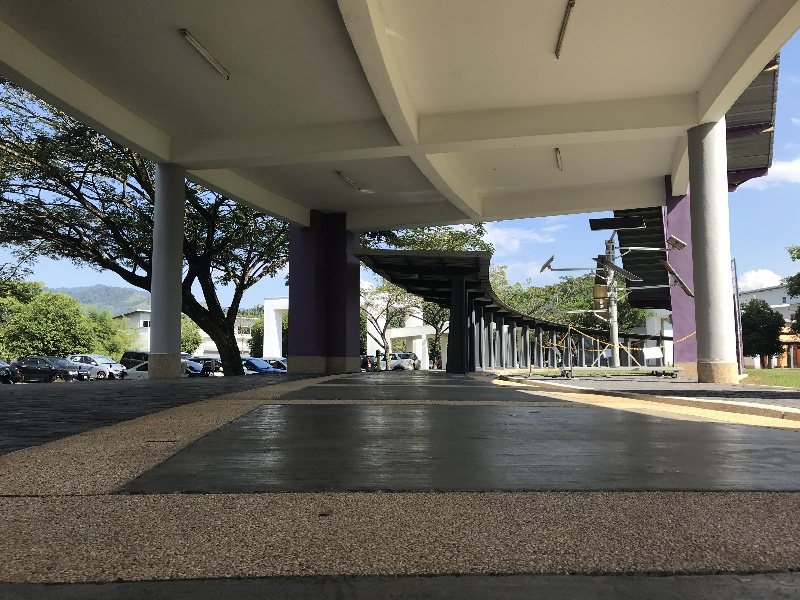pillar: (267, 197, 371, 381), (680, 112, 743, 392), (142, 158, 187, 385), (438, 269, 477, 379)
